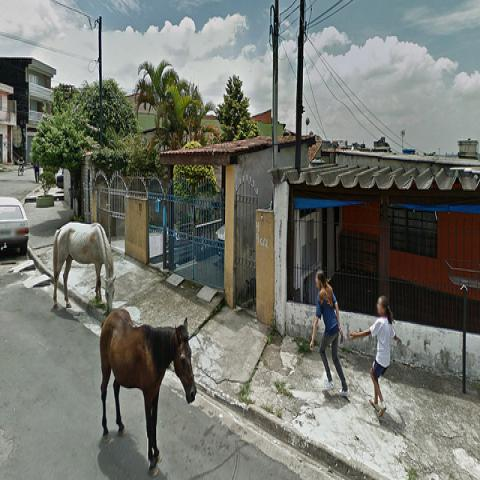car: (0, 197, 29, 255)
